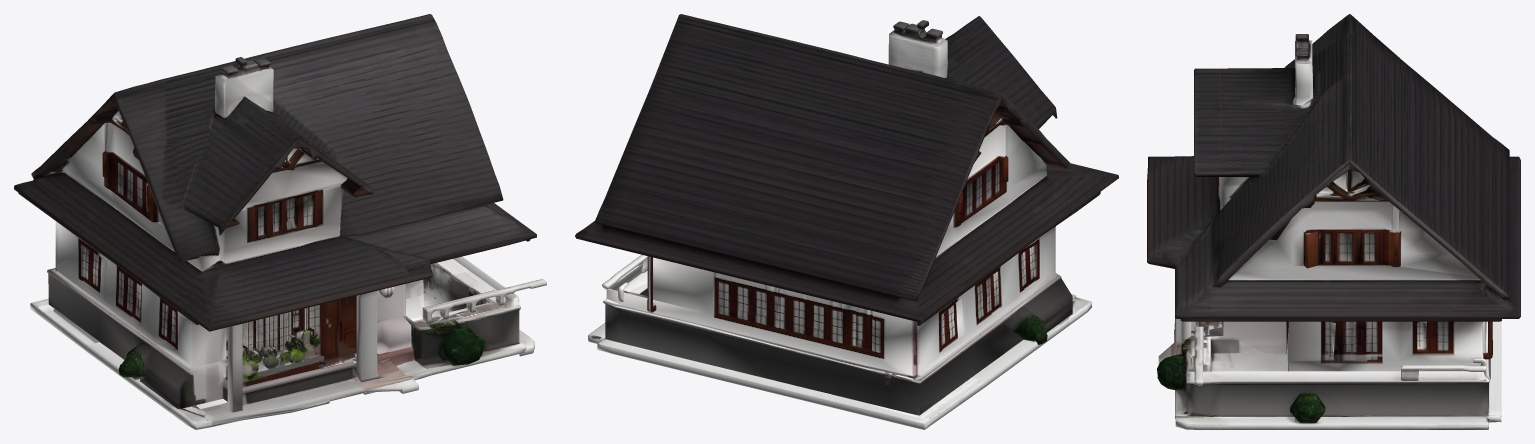
Rendered from farm_house_0621055901_texture.glb.
3 renders of one model, left to right at view 1: azimuth 30°, elevation 25°; view 2: azimuth 150°, elevation 25°; view 3: azimuth 270°, elevation 25°, orthographic. The views are drawn at different scales.
Parts seen in each view (by area): view 1: Mesh_0; view 2: Mesh_0; view 3: Mesh_0.
Boxes of the visible parts, x1,y1,x2,y2 form: Mesh_0: (14,14,546,429); Mesh_0: (575,14,1118,429); Mesh_0: (1147,14,1520,429).
Bounding box in the file's own units: 9.76 × 7.62 × 8.91.
Materials: 1 (1 with a texture image).
